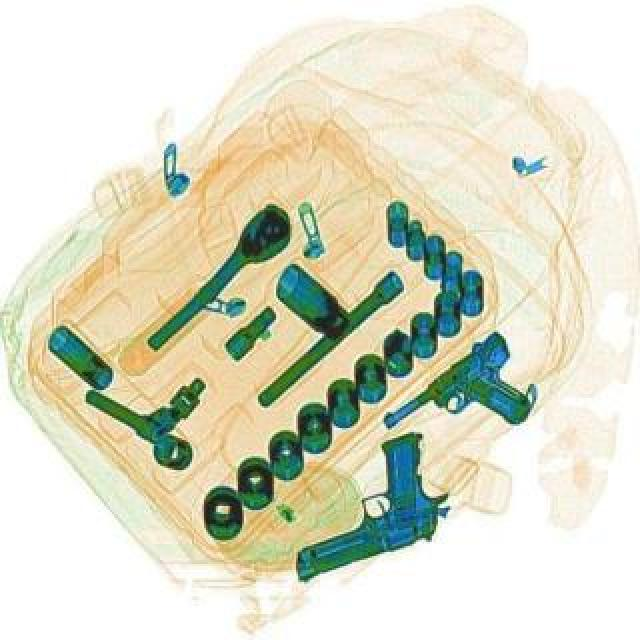gun: (256, 426, 460, 582), (372, 324, 556, 482)
